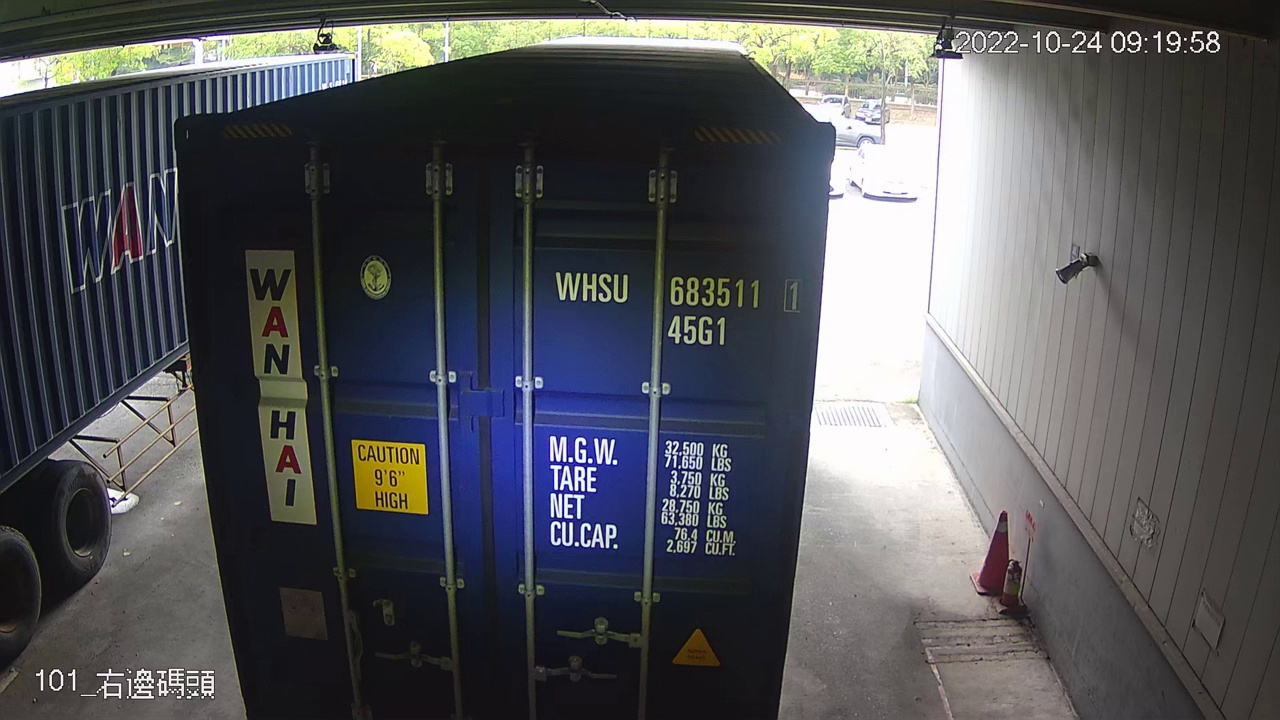container: (547, 259, 806, 353)
